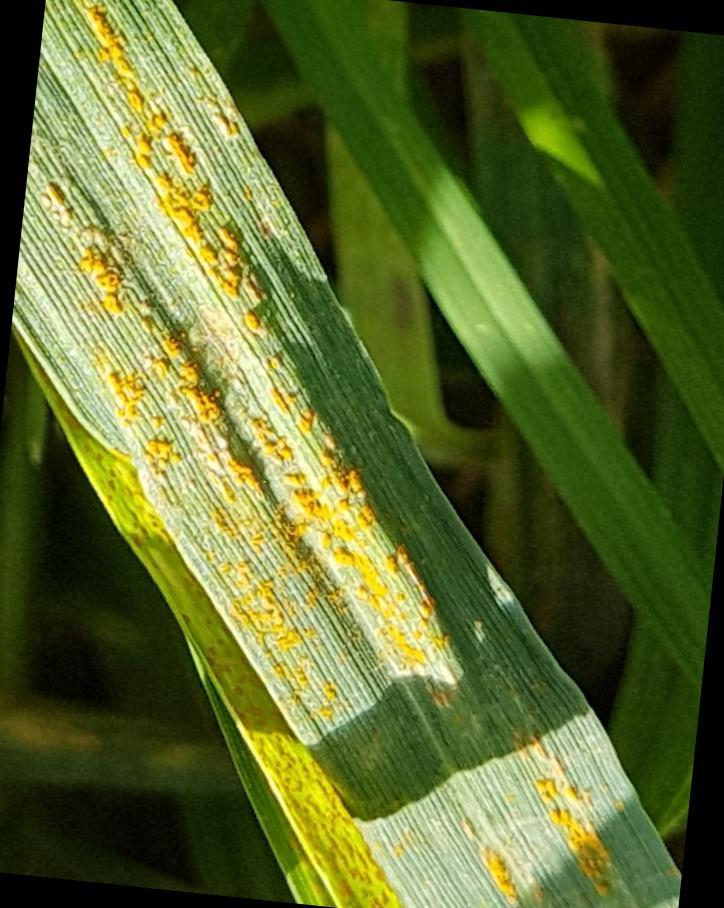Wheat: (46, 140, 291, 648), (43, 0, 328, 402), (306, 448, 395, 641), (533, 714, 620, 908)
